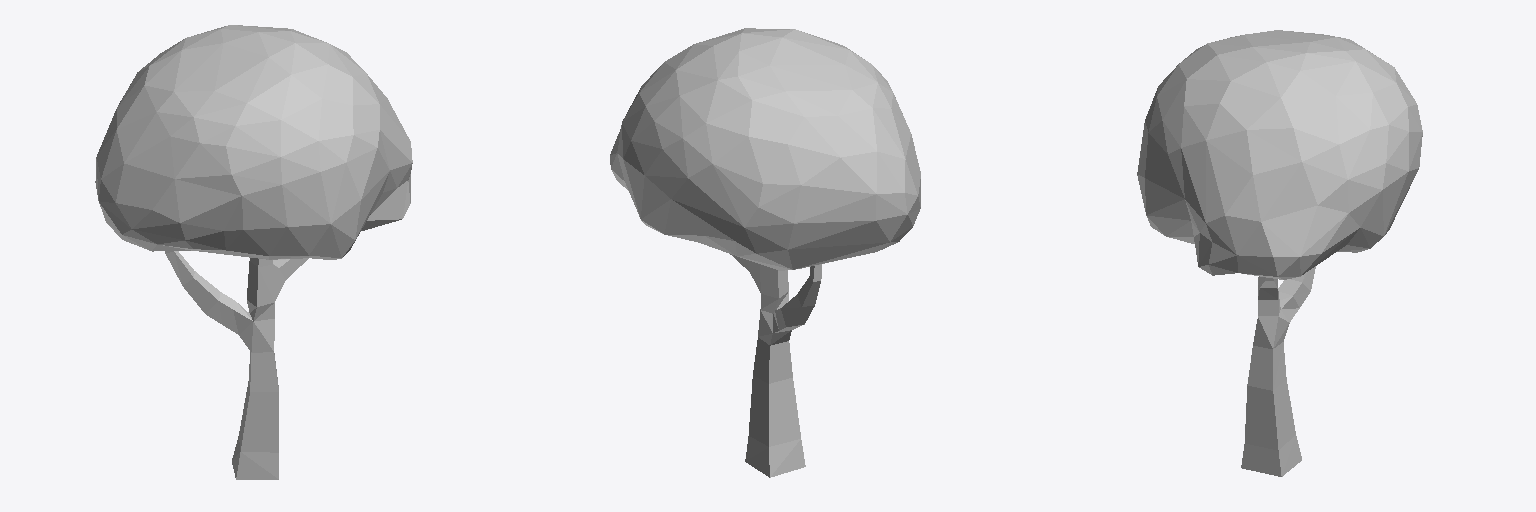
File: Tree1.obj
The picture shows the model from 3 angles: view 1: azimuth 30°, elevation 25°; view 2: azimuth 150°, elevation 25°; view 3: azimuth 270°, elevation 25°; orthographic projection.
Parts seen in each view (by area): view 1: Tree1_Icosphere.002; view 2: Tree1_Icosphere.002; view 3: Tree1_Icosphere.002.
Boxes of the visible parts, <box> form: Tree1_Icosphere.002: <box>95,25,412,479</box>; Tree1_Icosphere.002: <box>610,28,920,477</box>; Tree1_Icosphere.002: <box>1137,30,1422,476</box>.
Size of the model in its own units: 13.43 by 18.19 by 11.19.